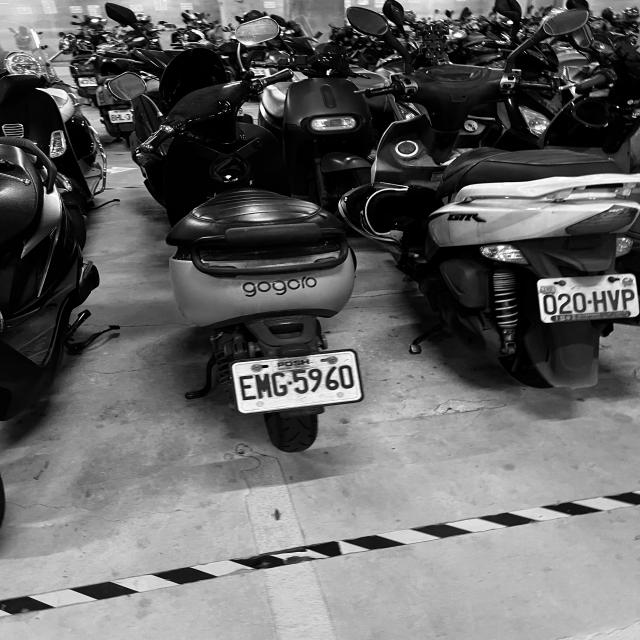-: (286, 380, 292, 385), (587, 300, 592, 304), (125, 116, 126, 118)
0: (338, 363, 357, 390), (572, 291, 586, 313), (543, 294, 557, 314)
2: (558, 292, 572, 314)
3: (126, 114, 131, 120)
5: (290, 368, 309, 396)
6: (324, 365, 341, 391)
9: (308, 366, 324, 394)
E: (237, 374, 256, 400)
G: (270, 369, 289, 398)
H: (592, 290, 608, 312)
M: (254, 372, 273, 400)
P: (622, 287, 635, 313)
V: (608, 286, 622, 312)
plate: (234, 362, 366, 407), (540, 277, 638, 317)
